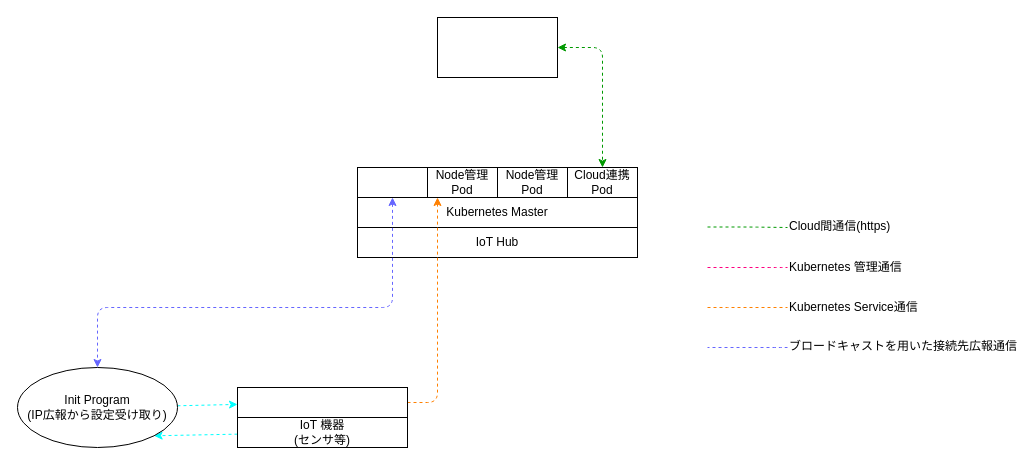
The diagram is 1035 pixels wide and 465 high, and some of its shapes have lost their labels. Each missing label, with the centre of its shape:
IoT 制御Program: point 322,402
IP広報 Pod: point 392,182
連携先サーバ (PublicCloud等): point 497,47
